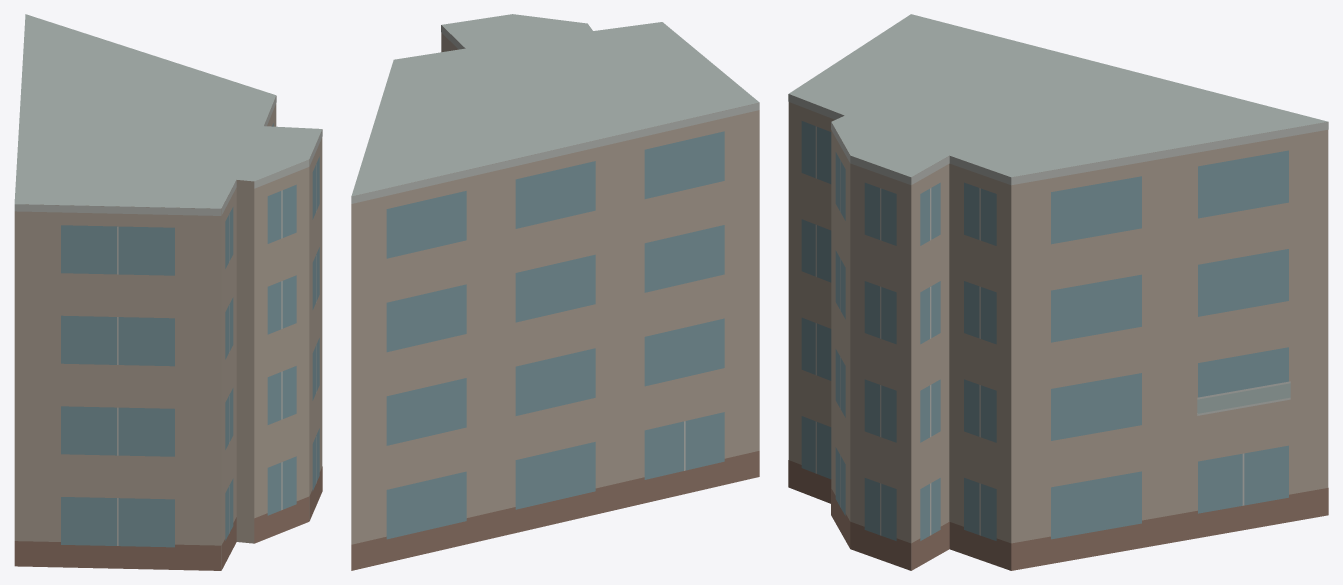
File: survey-upis-32975799.glb
The picture shows the model from 3 angles, left to right: view 1: azimuth 30°, elevation 25°; view 2: azimuth 150°, elevation 25°; view 3: azimuth 270°, elevation 25°; orthographic projection. The views are drawn at different scales.
Visible parts, largest first — view 1: survey-upis-32975799.tmp; view 2: survey-upis-32975799.tmp; view 3: survey-upis-32975799.tmp.
Boxes of the visible parts, bbox=[...] form: survey-upis-32975799.tmp: bbox=[14, 14, 322, 570]; survey-upis-32975799.tmp: bbox=[351, 14, 759, 570]; survey-upis-32975799.tmp: bbox=[788, 14, 1328, 570].
Size of the model in its own units: 10.78 by 12.1 by 15.05.
